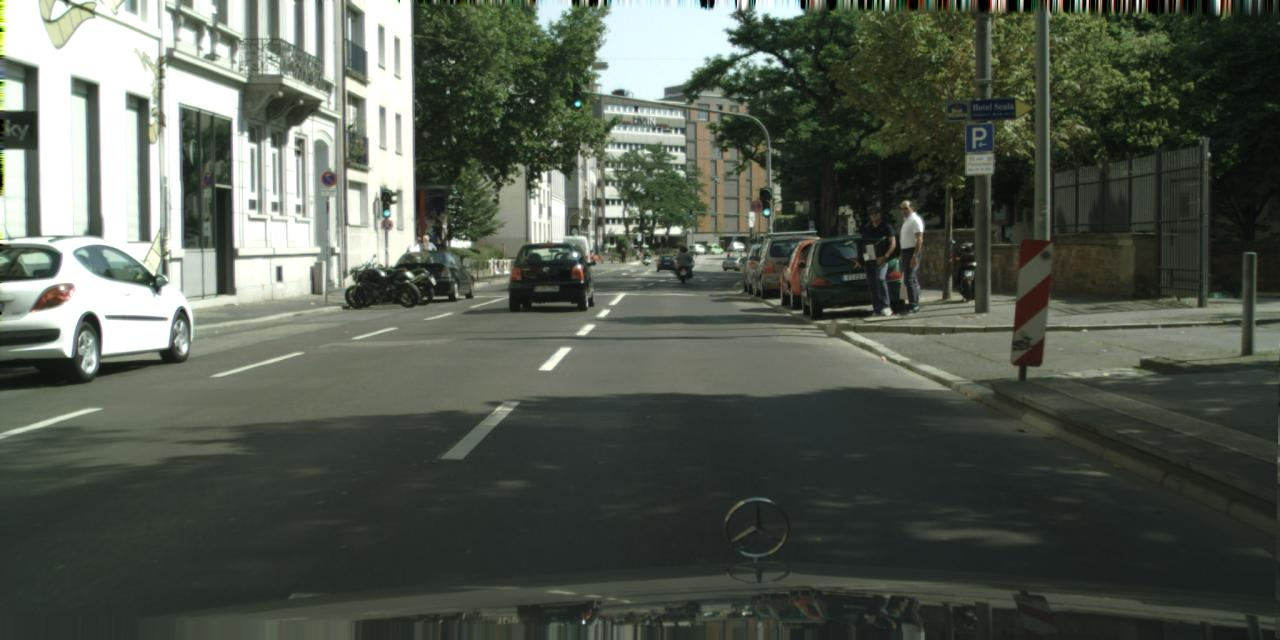ped: (854, 204, 900, 315), (887, 199, 932, 312), (417, 235, 437, 283), (677, 246, 688, 276), (620, 246, 626, 262), (726, 250, 731, 264), (634, 247, 639, 259), (644, 250, 648, 261)
